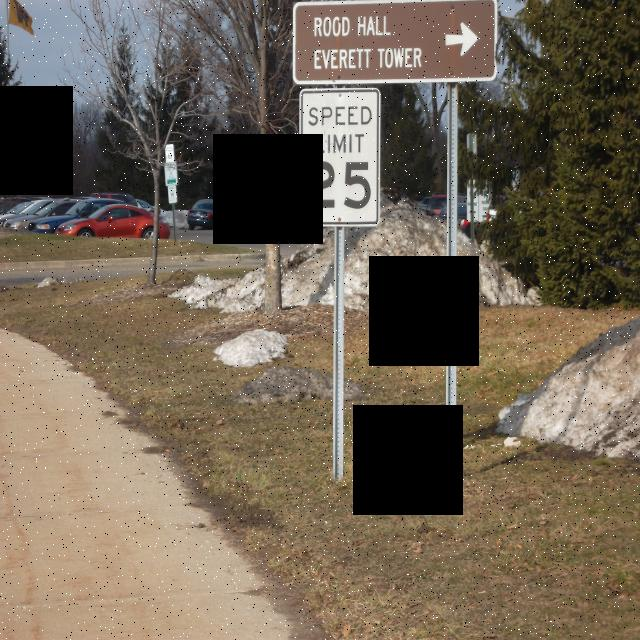regulatory: (299, 85, 381, 225)
